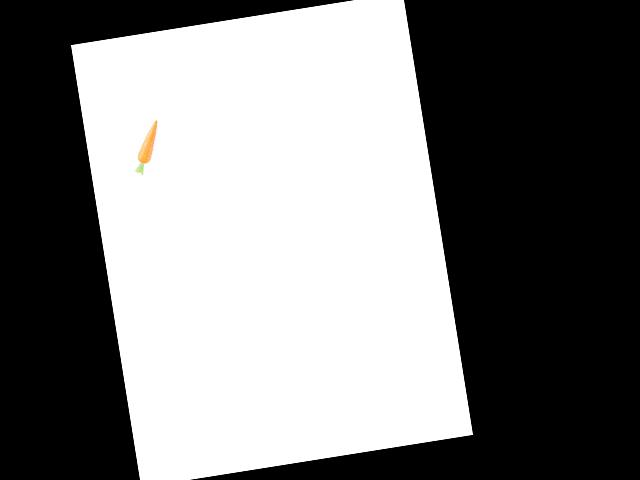carrot: (132, 117, 167, 170)
